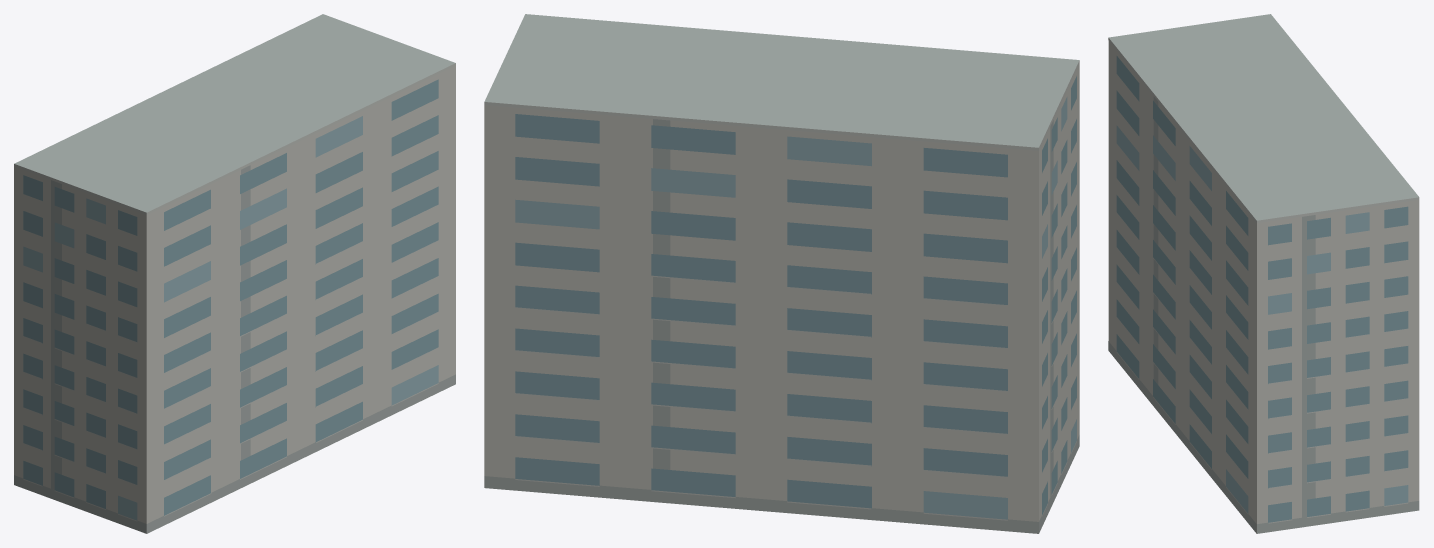
Rendered from residential-bd81a093-80e8-4647-91b7-10b425efe95a.glb.
3 views of the same model, side by side, from view 1: azimuth 30°, elevation 25°; view 2: azimuth 150°, elevation 25°; view 3: azimuth 270°, elevation 25° (orthographic). The views are drawn at different scales.
Parts seen in each view (by area): view 1: residential-bd81a093-80e8-4647-91b7-10b425efe95a.tmp; view 2: residential-bd81a093-80e8-4647-91b7-10b425efe95a.tmp; view 3: residential-bd81a093-80e8-4647-91b7-10b425efe95a.tmp.
Boxes of the visible parts, x1,y1,x2,y2 form: residential-bd81a093-80e8-4647-91b7-10b425efe95a.tmp: (14, 14, 455, 533); residential-bd81a093-80e8-4647-91b7-10b425efe95a.tmp: (484, 14, 1079, 533); residential-bd81a093-80e8-4647-91b7-10b425efe95a.tmp: (1108, 14, 1419, 533).
Bounding box in the file's own units: 41.06 × 29 × 26.1.
